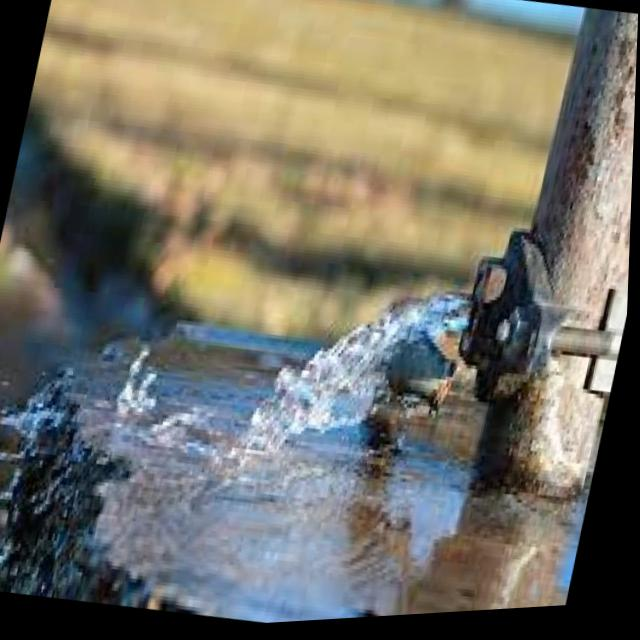leak: (142, 283, 479, 583)
